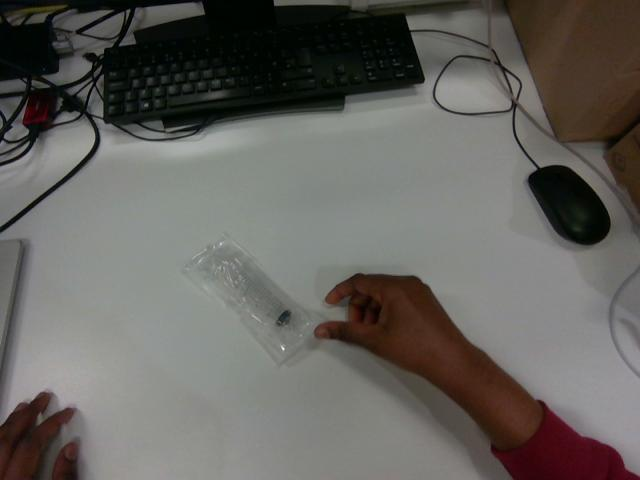syringe: (183, 235, 321, 364)
